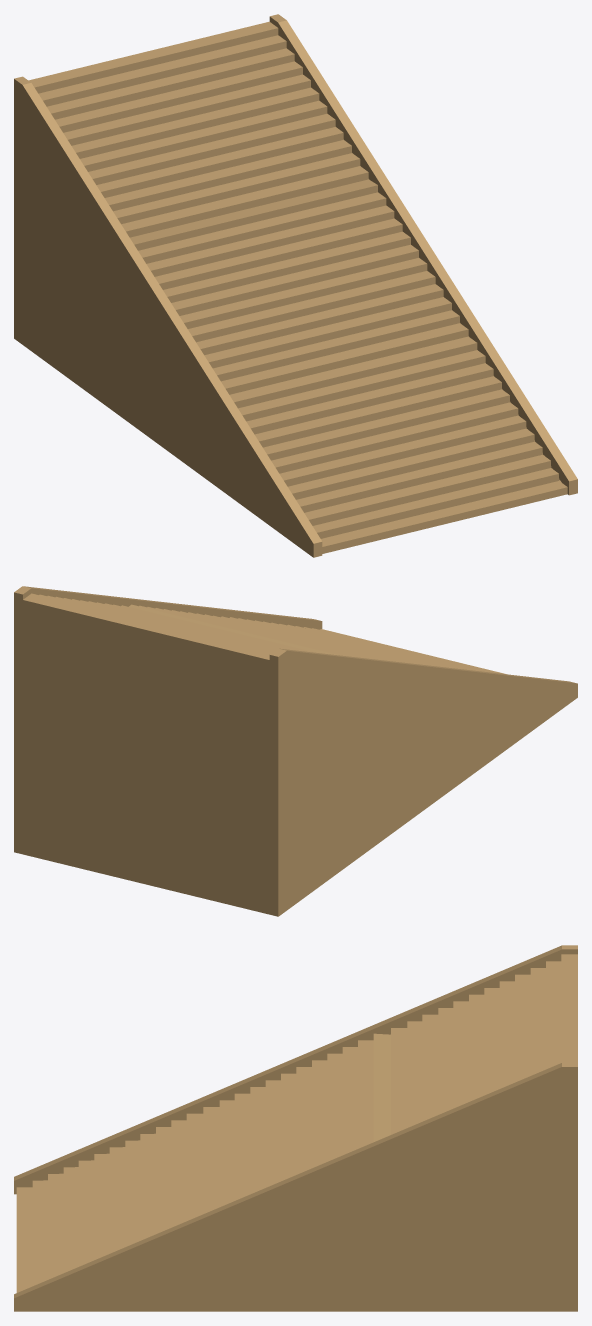
File: TallStairsH3_01.fbx
The picture shows the model from 3 angles, top to bottom: view 1: azimuth 30°, elevation 25°; view 2: azimuth 150°, elevation 25°; view 3: azimuth 270°, elevation 25°; orthographic projection. The views are drawn at different scales.
Visible parts, largest first — view 1: StairsSides; view 2: StairsSides; view 3: StairsSides.
Part boxes in pixels (left/top/right/bottom): StairsSides: left=14, top=14, right=577, bottom=557; StairsSides: left=14, top=586, right=577, bottom=916; StairsSides: left=14, top=945, right=577, bottom=1311.
Size of the model in its own units: 650 by 611 by 1275.
